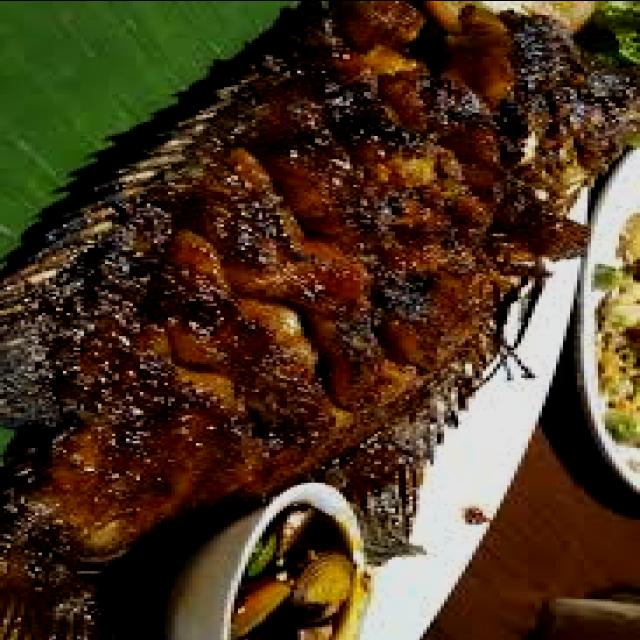ikan bakar: (0, 0, 640, 640)
